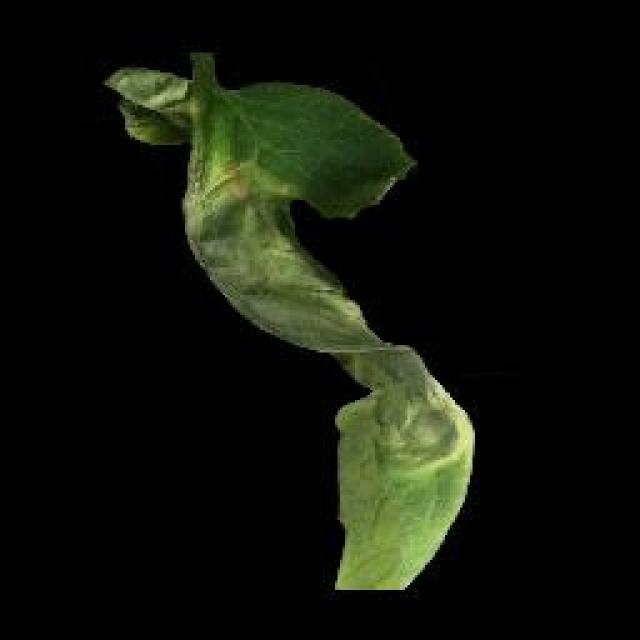Tomato Late Blight: (124, 60, 458, 603)
